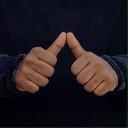hand: (66, 31, 118, 96), (13, 31, 66, 94)
